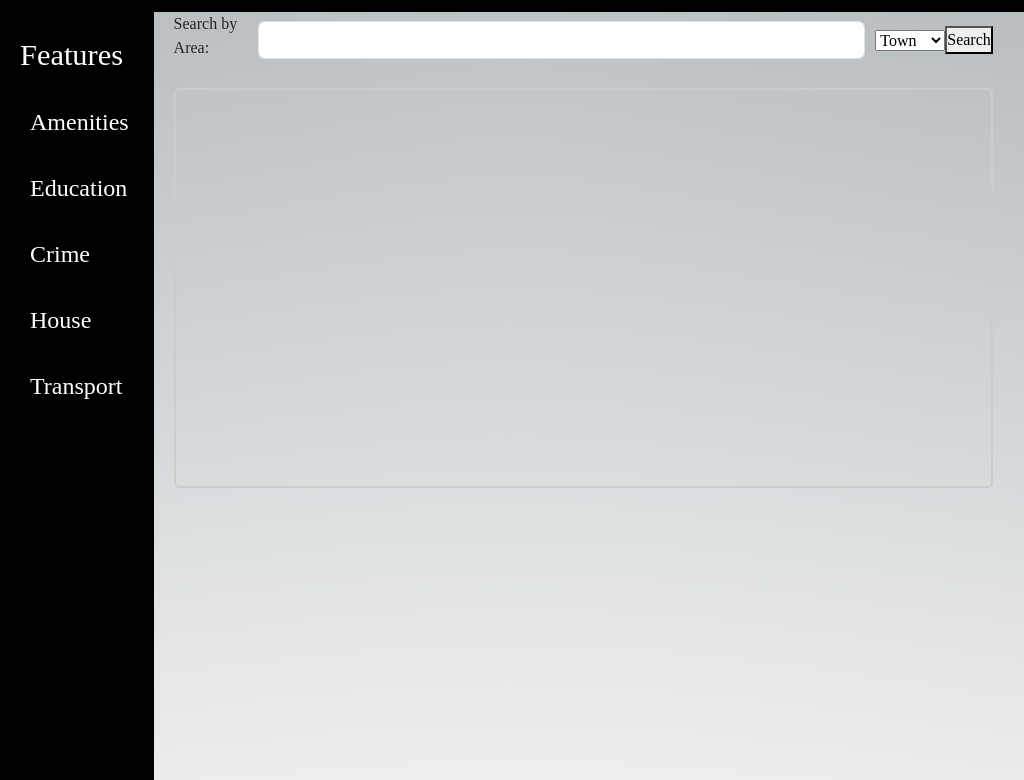
AreaSearch component › handles search and displays result
In the field labelled "Search by Area:": (562, 40) 258,21 -> 865,59, type "Dublin"
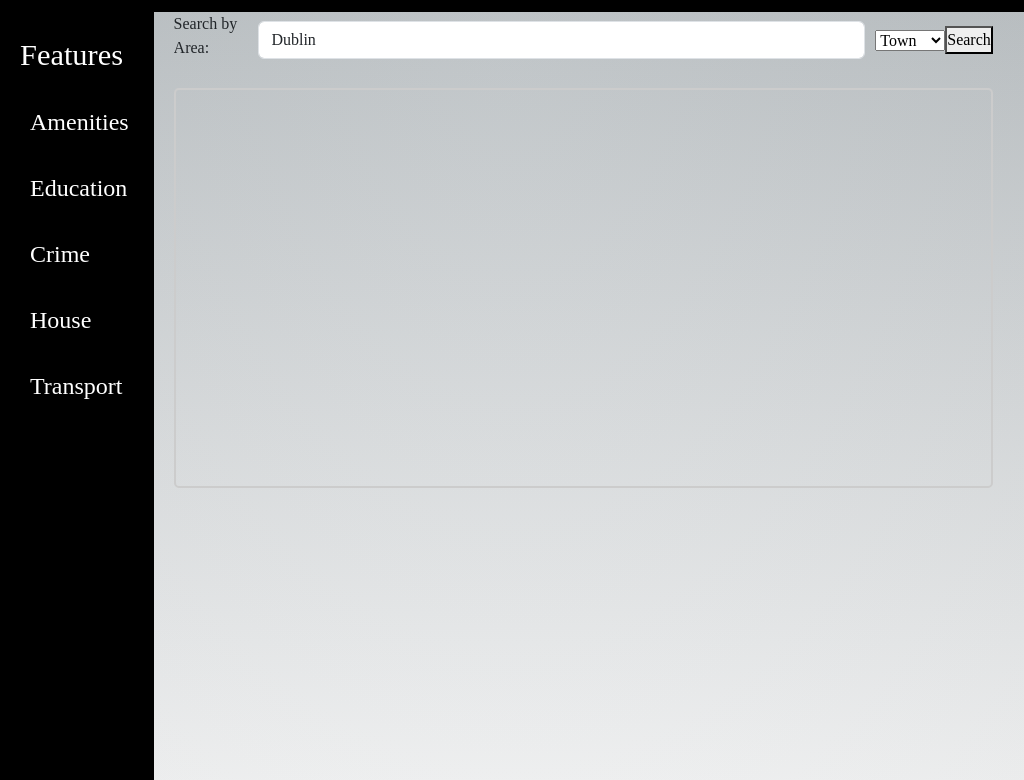
Click the button "Search": (969, 40) 945,26 -> 993,54
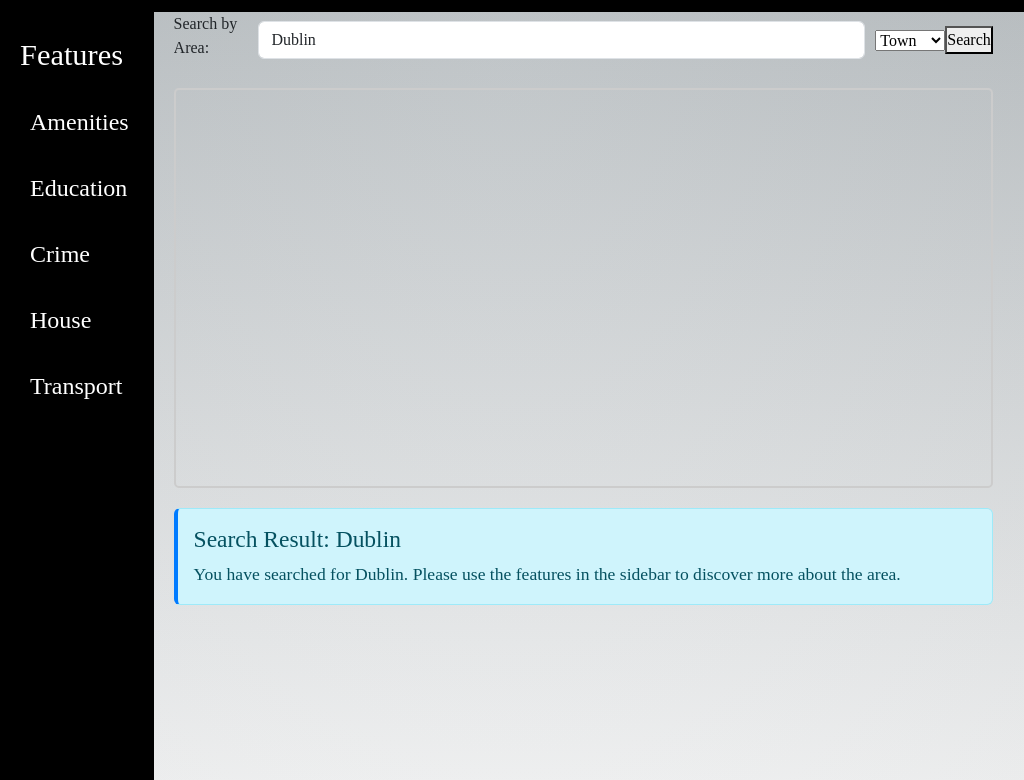
Expected: the list item "Amenities" is shown, 30,108 -> 129,134
Expected: the heading "Search Result: Dublin" is shown, 194,526 -> 401,552
